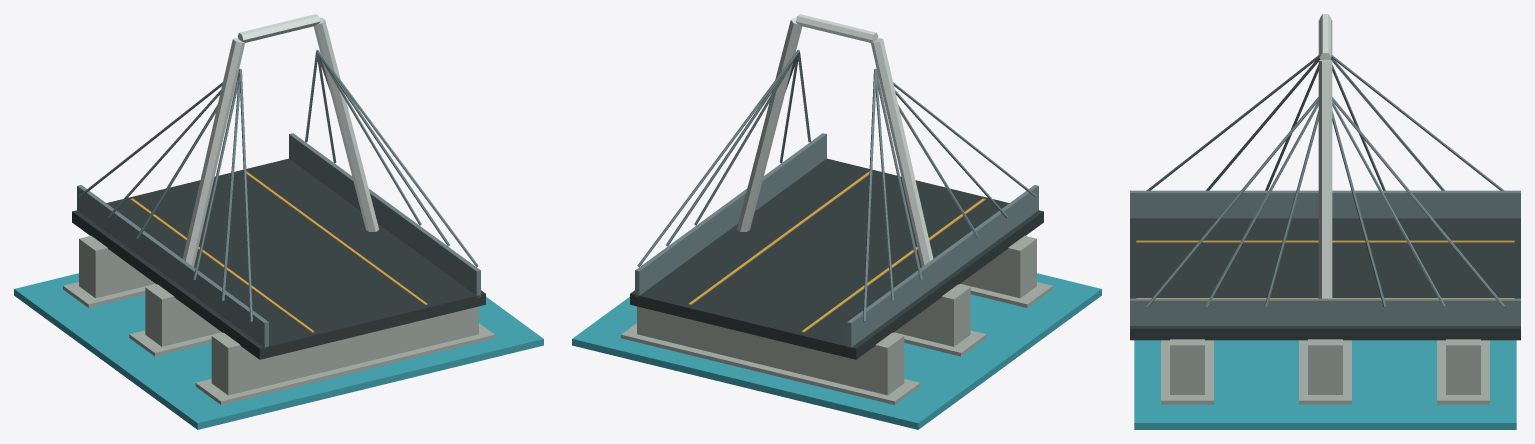
Rendered from bridge_lv3.glb.
3 renders of one model, left to right at view 1: azimuth 30°, elevation 25°; view 2: azimuth 150°, elevation 25°; view 3: azimuth 270°, elevation 25°, orthographic. The views are drawn at different scales.
Parts seen in each view (by area): view 1: rough, glossy, metallic; view 2: rough, glossy, metallic; view 3: rough, metallic, glossy.
Part boxes in pixels (x1,y1,x2,y2): rough: (63, 14, 494, 404); glossy: (14, 273, 543, 429); metallic: (77, 49, 480, 348); rough: (621, 14, 1052, 404); glossy: (572, 273, 1101, 429); metallic: (635, 49, 1038, 348); rough: (1130, 14, 1520, 404); metallic: (1130, 54, 1520, 325); glossy: (1134, 340, 1516, 429).
Size of the model in its own units: 9.8 by 8.01 by 9.2.
